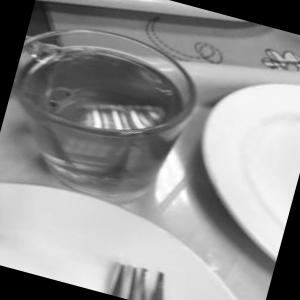tea: (0, 11, 247, 234)
